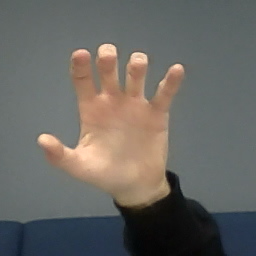AE: (35, 43, 187, 183)
